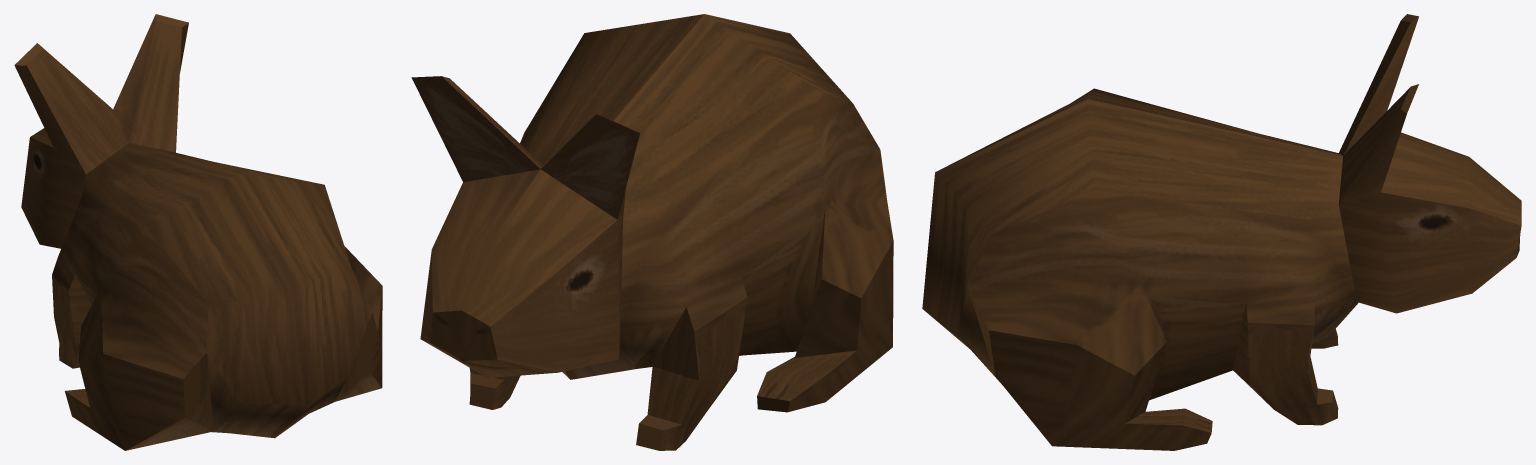
Rendered from rabbitCOMPLETEFBX.fbx.
3 renders of one model, left to right at view 1: azimuth 30°, elevation 25°; view 2: azimuth 150°, elevation 25°; view 3: azimuth 270°, elevation 25°, orthographic. The views are drawn at different scales.
Visible parts, largest first — view 1: pCube1; view 2: pCube1; view 3: pCube1.
Part boxes in pixels (x1,y1,x2,y2): pCube1: [14, 14, 382, 450]; pCube1: [411, 14, 893, 450]; pCube1: [922, 14, 1521, 450].
Bounding box in the file's own units: 1.31 × 1.3 × 2.09.
Materials: 1 (1 with a texture image).
